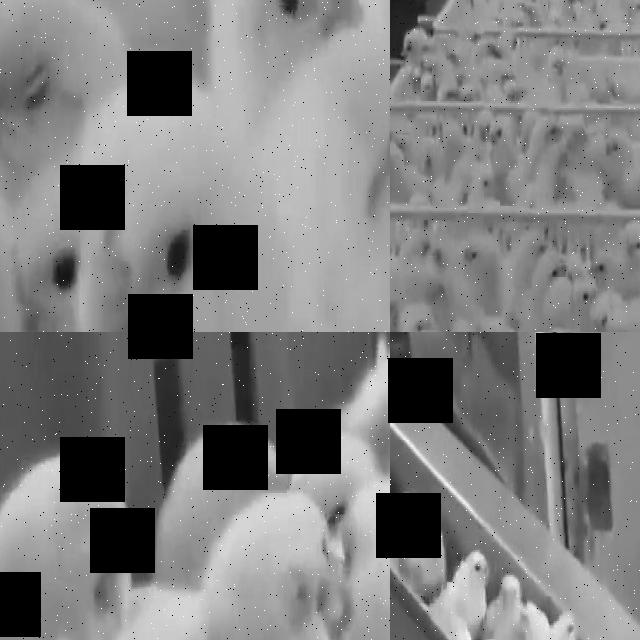chicks: (72, 101, 257, 332), (280, 71, 390, 292), (210, 515, 364, 640), (17, 466, 146, 606), (0, 0, 78, 162), (184, 0, 380, 55), (0, 209, 87, 332), (285, 417, 372, 529), (178, 444, 278, 511), (353, 349, 390, 453), (463, 236, 500, 290), (390, 488, 427, 531), (495, 573, 524, 622), (458, 554, 488, 596), (590, 254, 618, 288), (418, 530, 446, 562), (544, 250, 569, 284), (403, 306, 435, 332), (492, 120, 515, 156), (405, 231, 435, 257), (426, 279, 449, 307), (432, 243, 452, 270), (390, 149, 404, 186), (577, 277, 598, 301), (627, 235, 640, 273), (557, 612, 574, 640), (599, 298, 611, 330), (519, 248, 531, 278), (610, 316, 632, 332), (450, 322, 478, 332), (480, 324, 509, 332)
